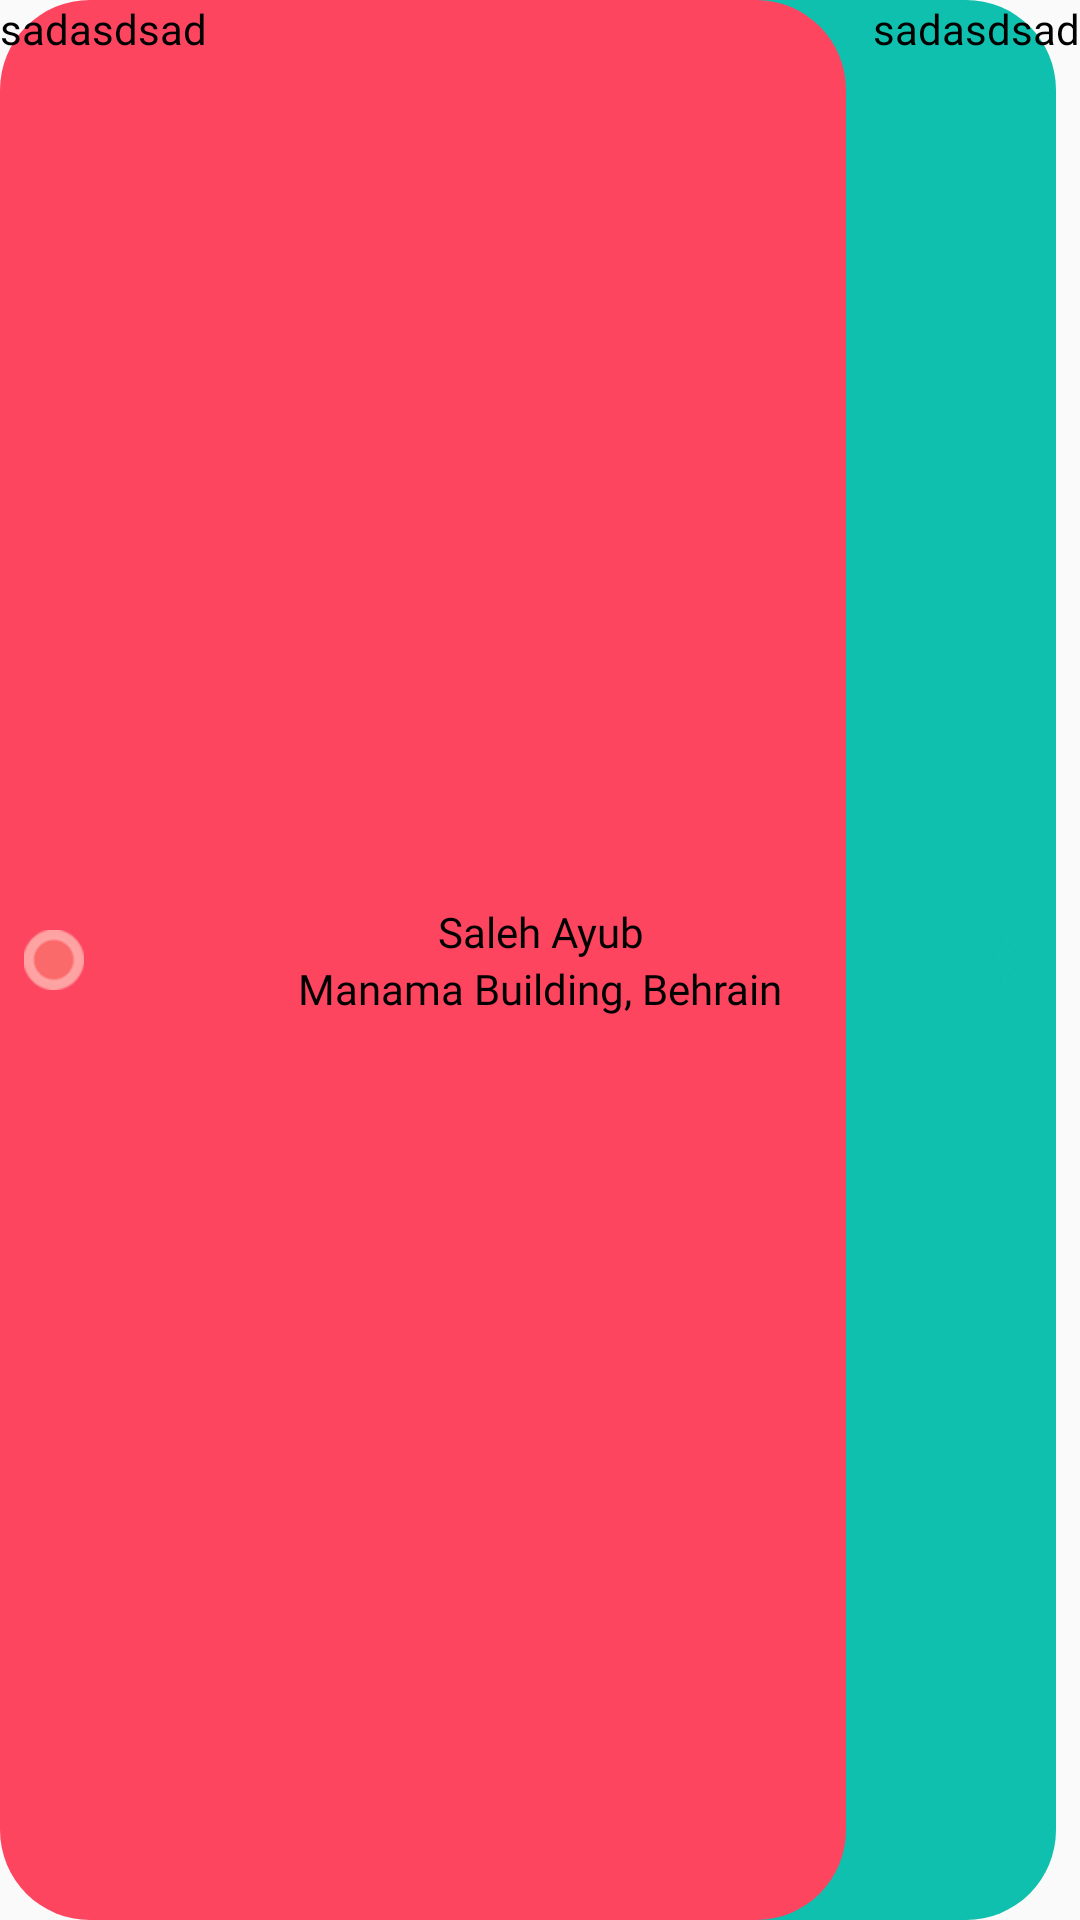

Where to tap for icons on this 1080px×1920px app screen, as [x,y]:
swipe dot: [54,960]
